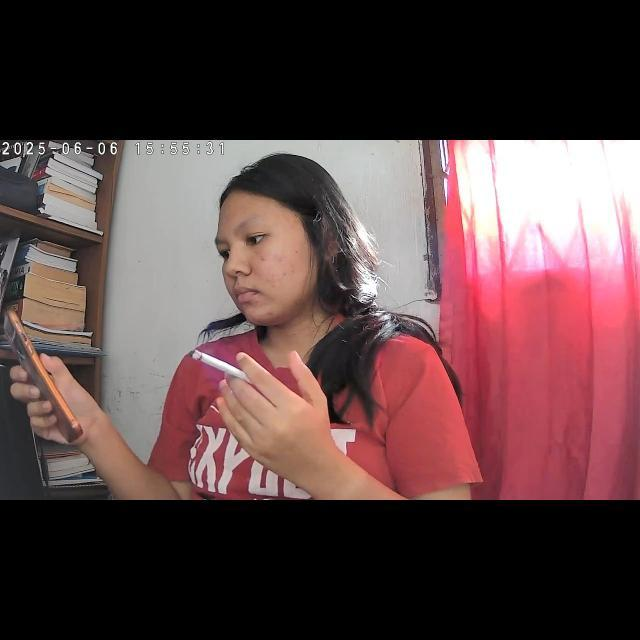rokok: (187, 346, 256, 386)
